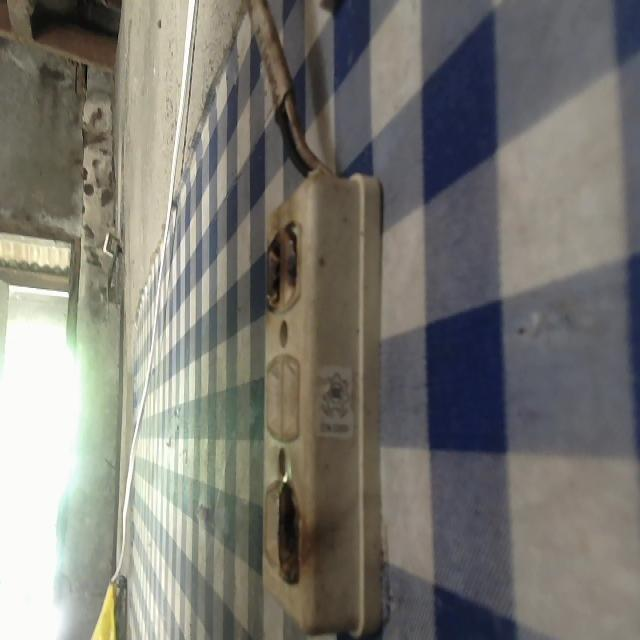-: (258, 216, 309, 313), (273, 474, 302, 582)
